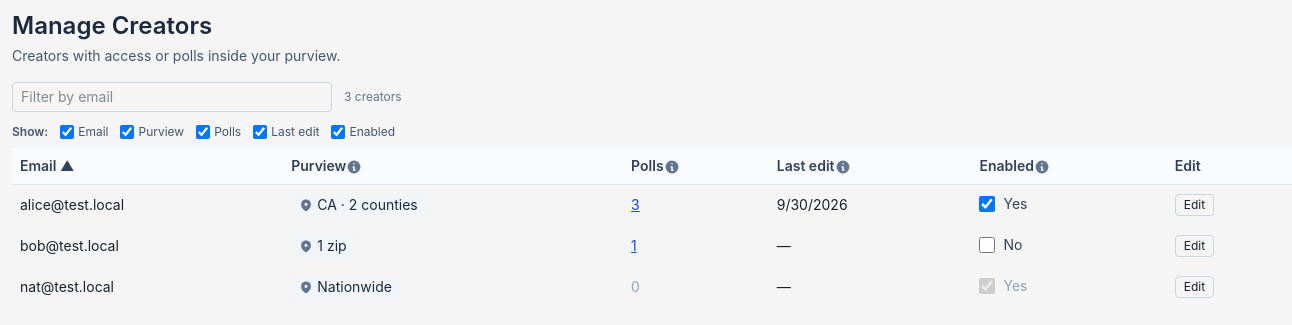
Test: ManageCreatorsView › pops up the full purview, with disabled grants struck through
This screenshot has width=1292, height=325.
Click the button "CA · 2 counties" at (359, 205), box [291, 193, 426, 217]
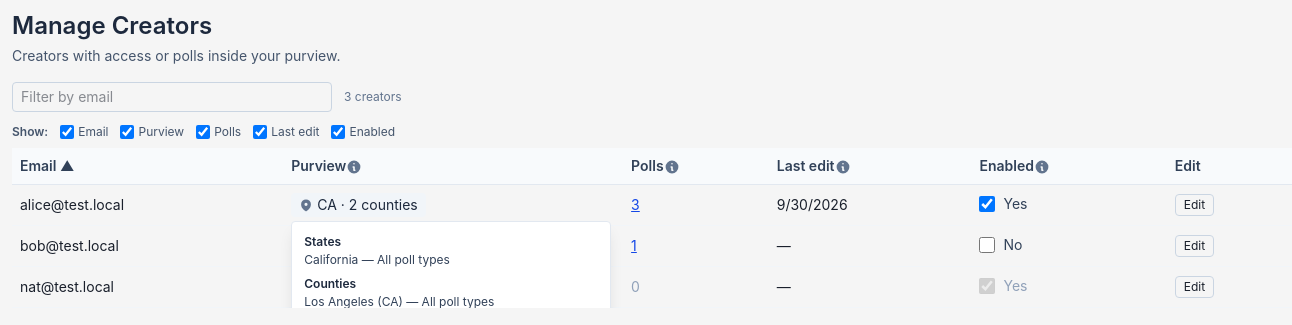
Result: the tooltip shows "California — All poll types" at [304, 252, 450, 267]
Result: the tooltip shows "Los Angeles (CA)" at [304, 294, 494, 308]
